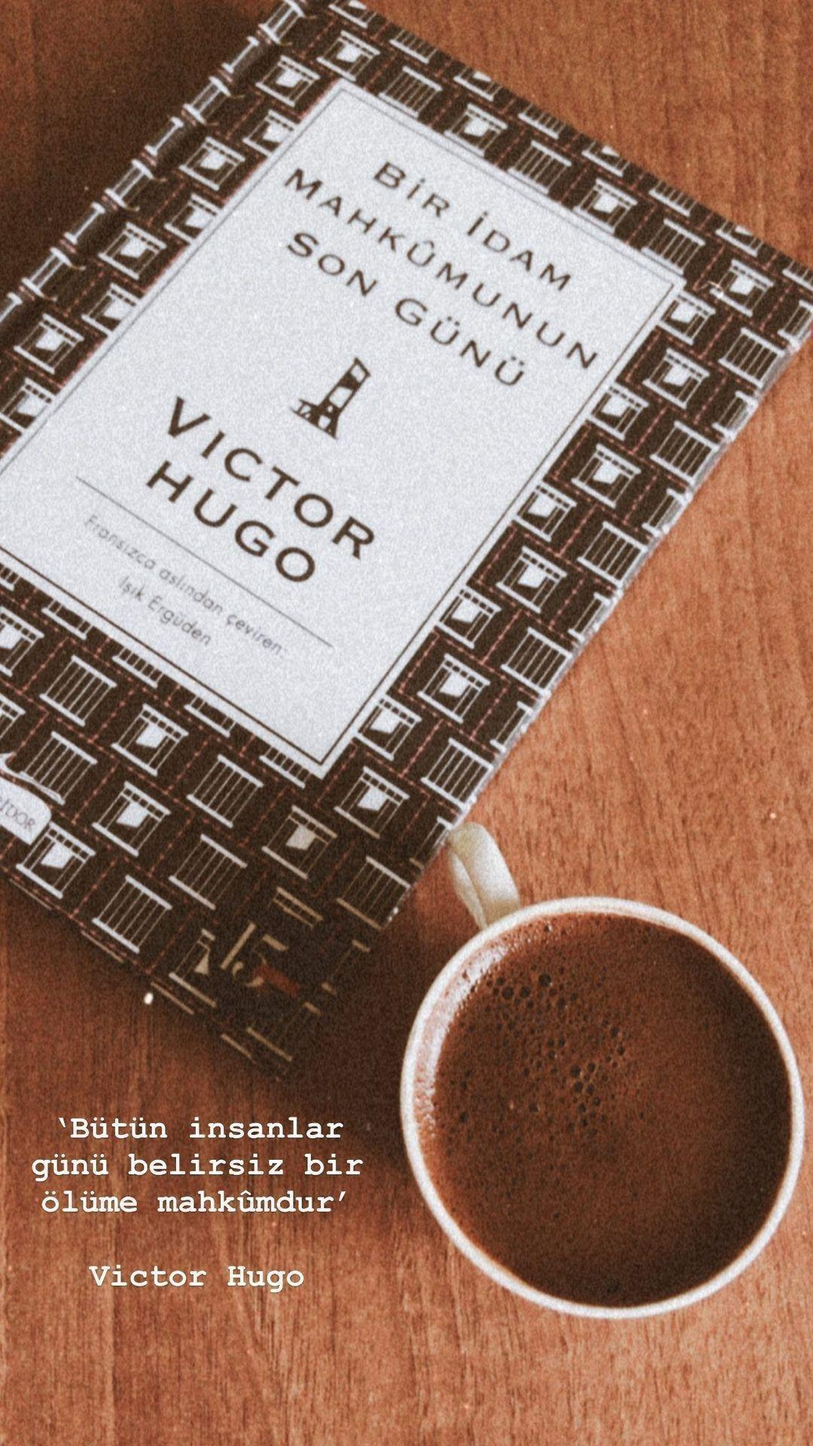cup-handle: (398, 827, 812, 1329)
